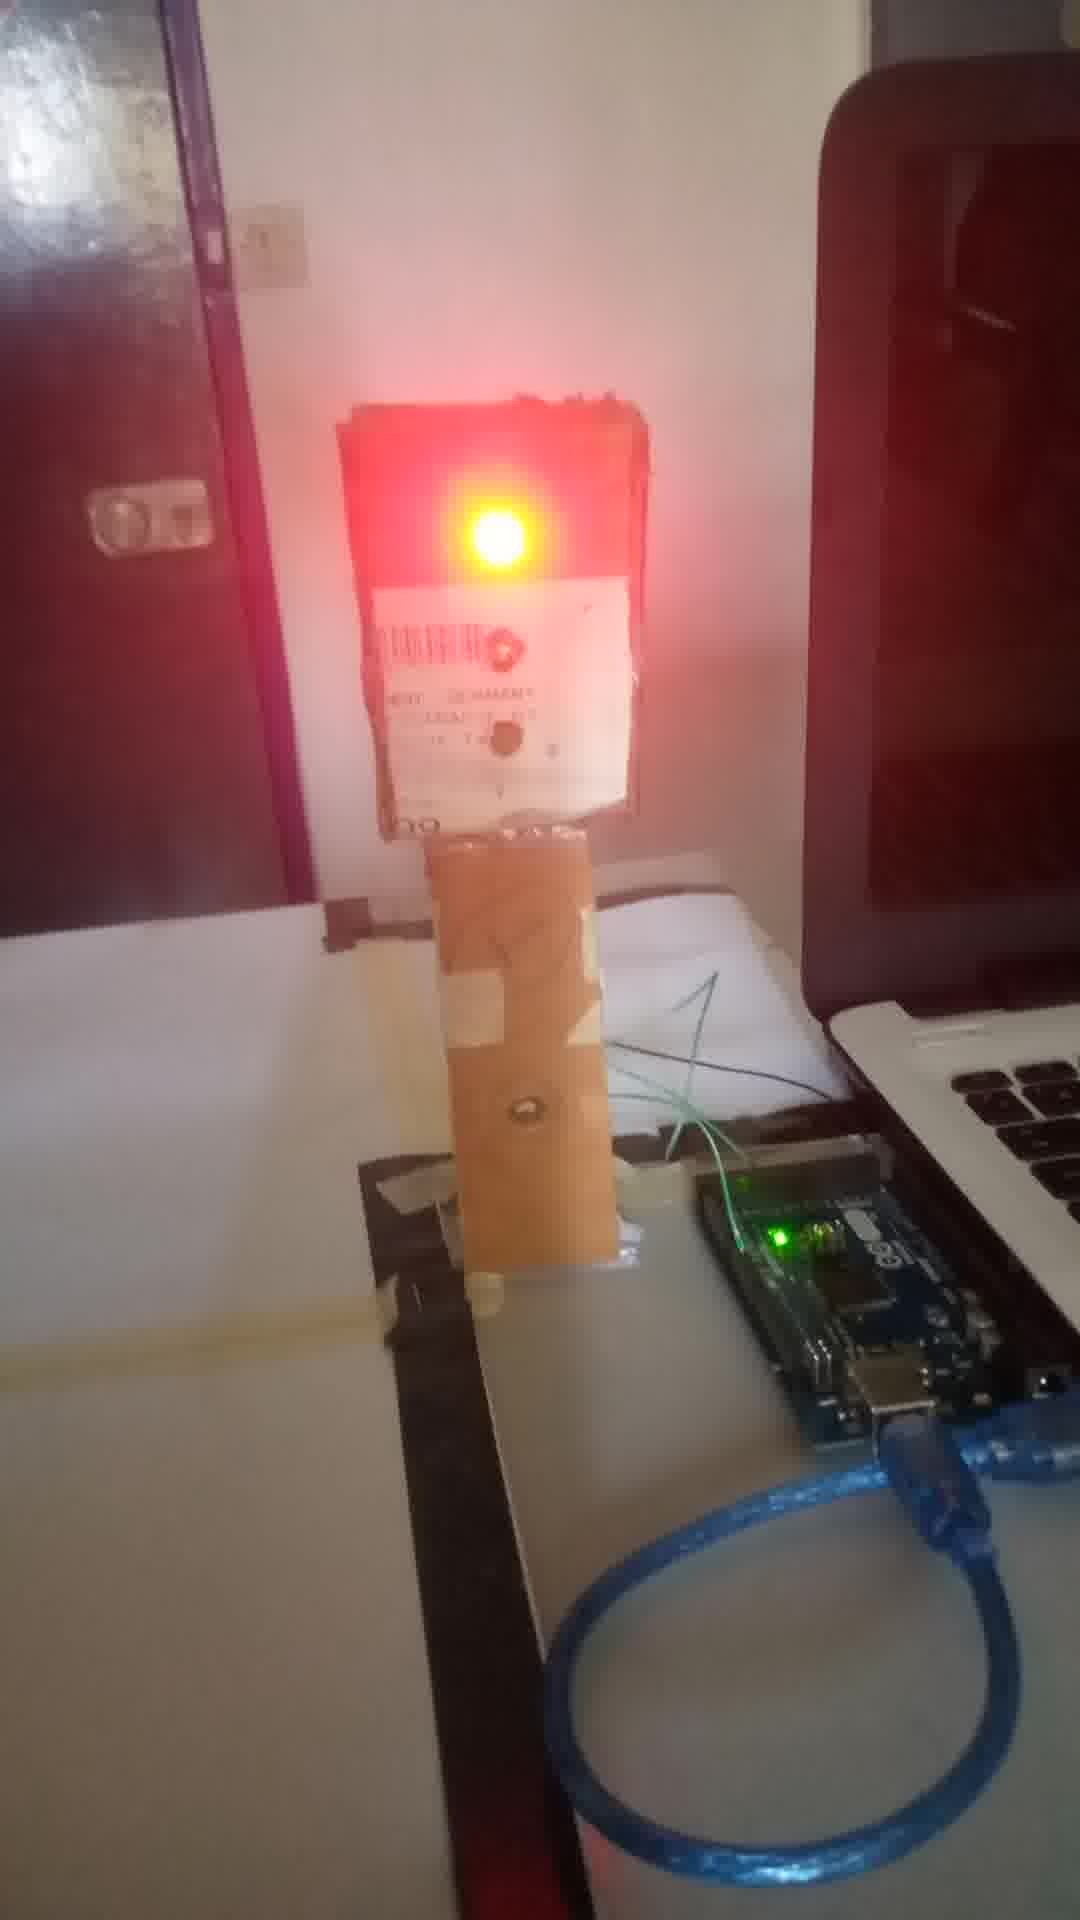red: (353, 414, 641, 820)
